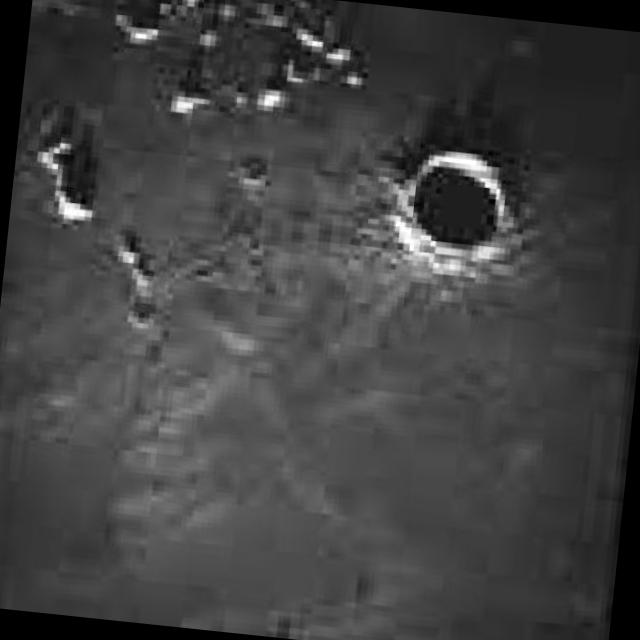crater: (404, 154, 516, 259)
